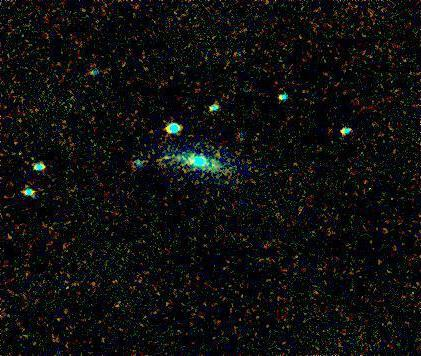star: (154, 144, 184, 174)
